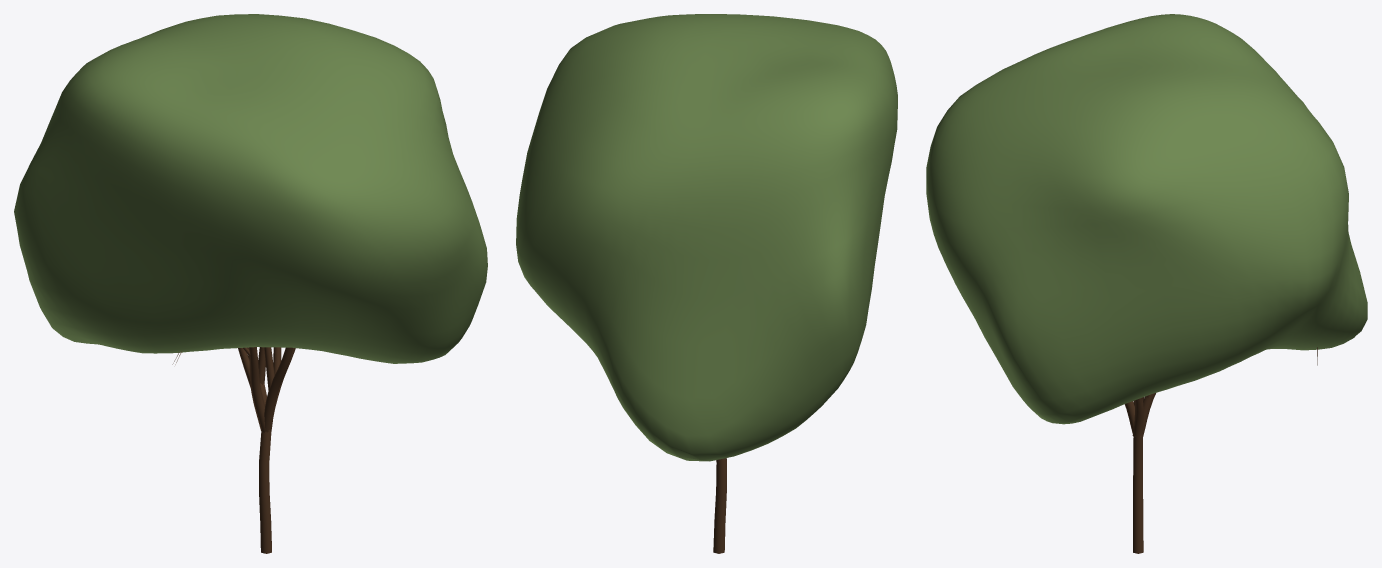
Rendered from Arbre_2.fbx.
3 views of the same model, side by side, from view 1: azimuth 30°, elevation 25°; view 2: azimuth 150°, elevation 25°; view 3: azimuth 270°, elevation 25° (orthographic). The views are drawn at different scales.
Visible parts, largest first — view 1: Sphere, tree.; view 2: Sphere, tree.; view 3: Sphere, tree..
Boxes of the visible parts, x1,y1,x2,y2 form: Sphere: [14, 14, 487, 363]; tree.: [172, 347, 295, 553]; Sphere: [516, 14, 897, 461]; tree.: [713, 458, 726, 553]; Sphere: [926, 14, 1367, 424]; tree.: [1124, 347, 1317, 553].
Bounding box in the file's own units: 804 × 1106 × 922.
